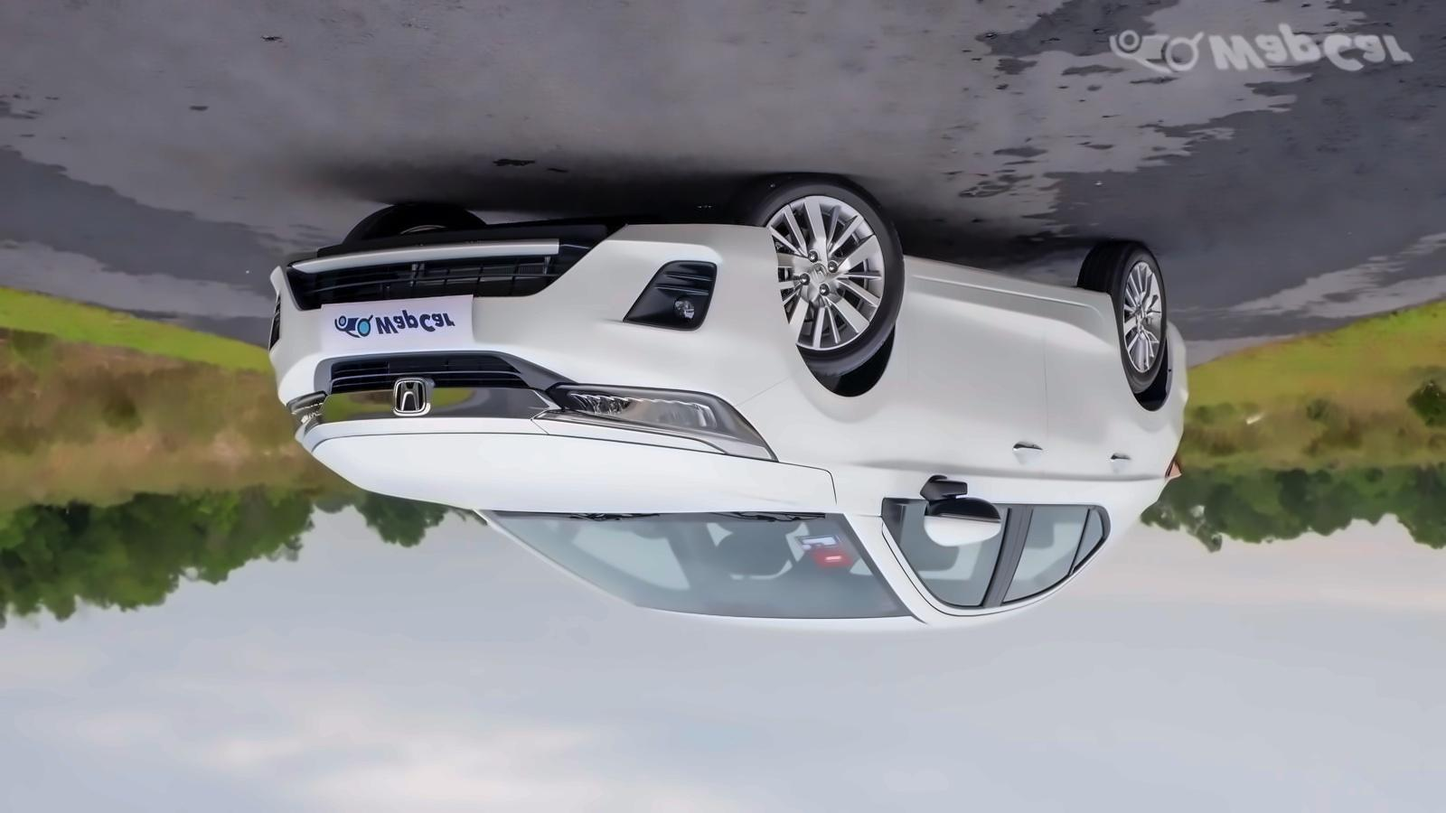Car hood: (298, 413, 839, 514)
Driver-s door - -F-R-: (892, 268, 1048, 620)
Fender - -F-R-: (732, 311, 896, 524)
Fender - -R-R-: (1104, 285, 1173, 470)
Front bumper: (260, 209, 809, 396)
Headlight - -L-: (279, 378, 336, 443)
Headlight - -R-: (531, 376, 784, 466)
Passenger-s door - -R-R-: (997, 279, 1141, 614)
Rear bumper: (1161, 315, 1197, 413)
Rear light - -R-: (1154, 453, 1196, 492)
Side bumper - -R-: (895, 249, 1120, 322)
Side mirror - -R-: (918, 469, 1008, 551)
